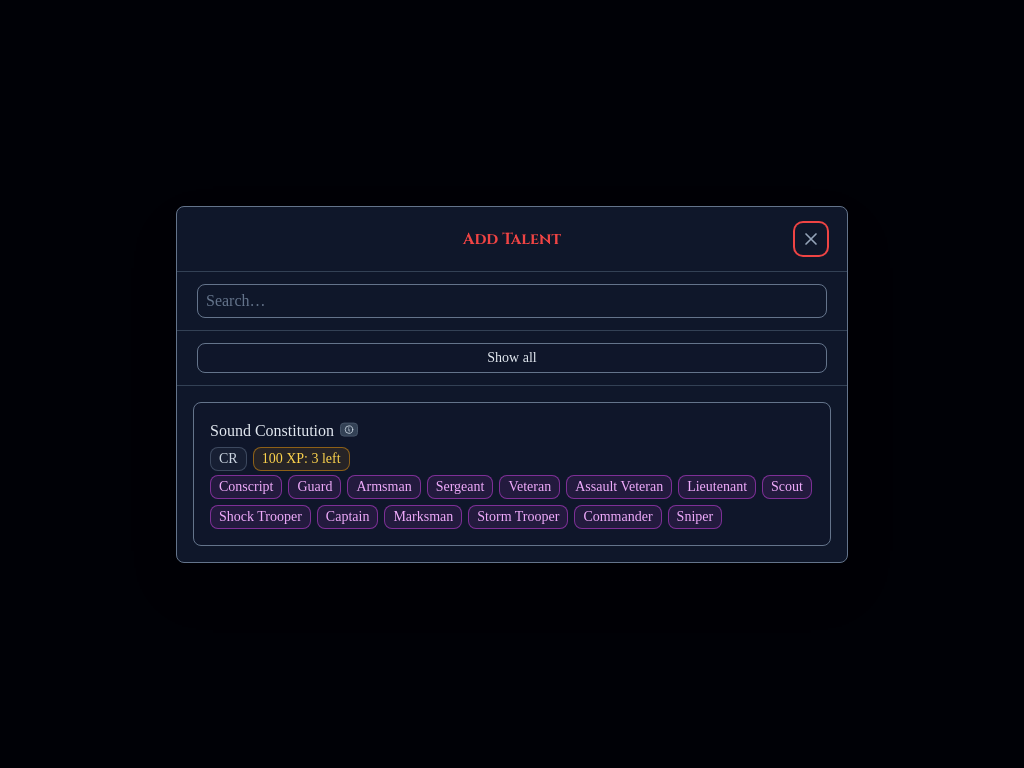
TalentPickerModal, career-aware overflow screen › always opens manual-cost for a plain talent clicked on the overflow screen
Click the button "Show all" at (512, 358), box 197,342 -> 827,372
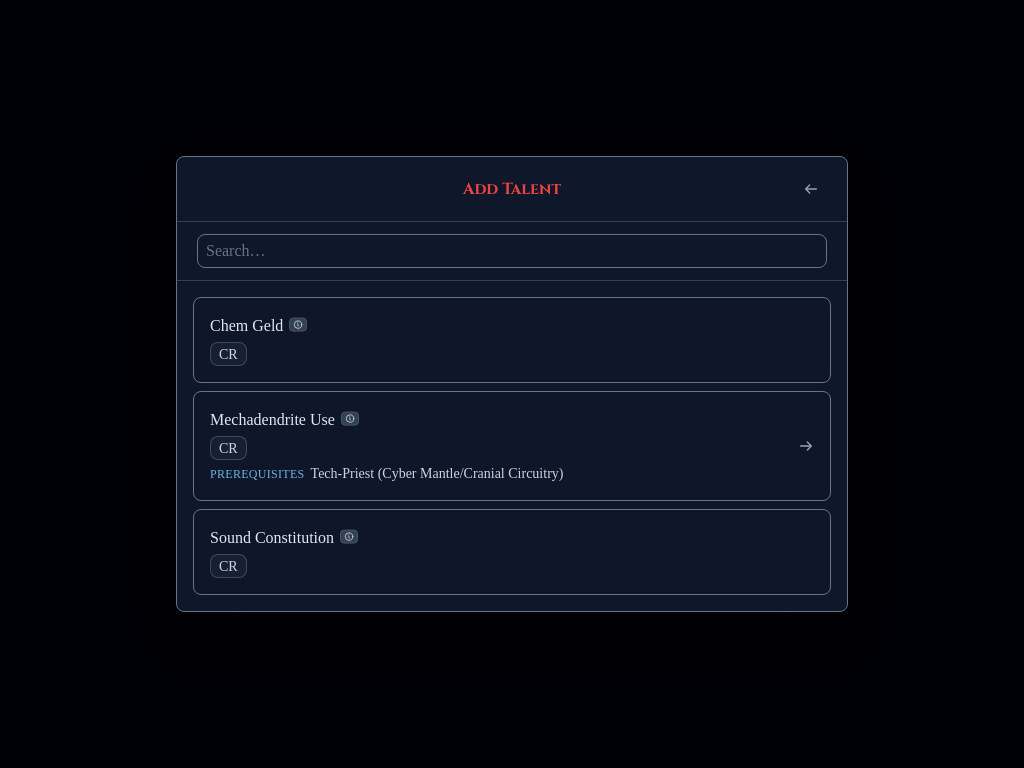
Click the text "Sound Constitution" at (272, 538), box 210,526 -> 334,550
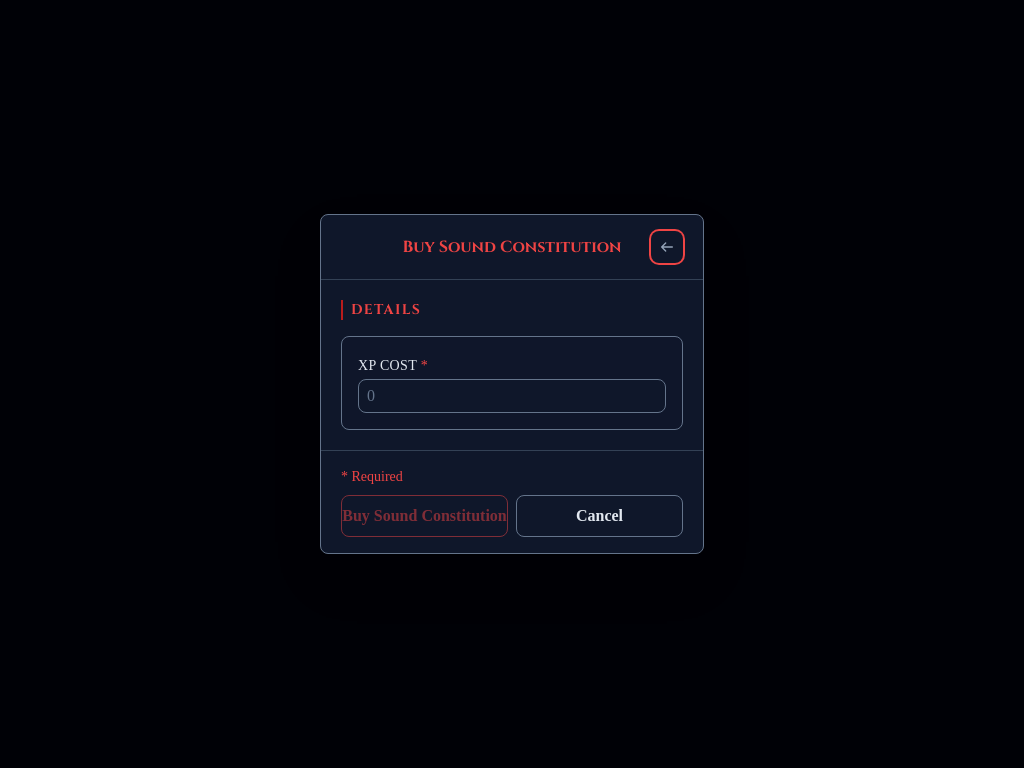
Expected: the text "XP Cost" is shown, 358,358 -> 417,373
